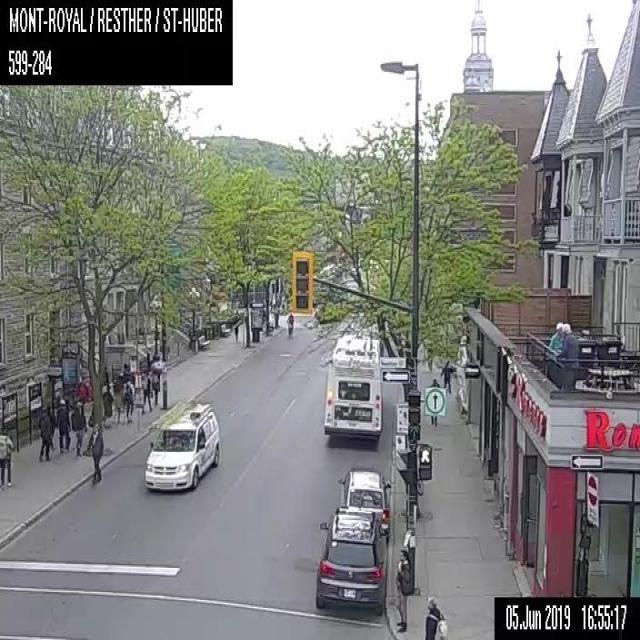bus: (323, 333, 381, 439)
pedestrian: (394, 548, 411, 631), (86, 424, 103, 484), (423, 594, 446, 638), (37, 405, 53, 461), (54, 397, 70, 452), (0, 426, 13, 490), (70, 404, 84, 456), (122, 375, 134, 422), (429, 377, 440, 425), (101, 384, 113, 427), (440, 360, 455, 391), (141, 372, 152, 413), (231, 307, 241, 340), (286, 313, 293, 338)
vehicle: (314, 506, 388, 614), (144, 400, 220, 490), (336, 468, 391, 538)
